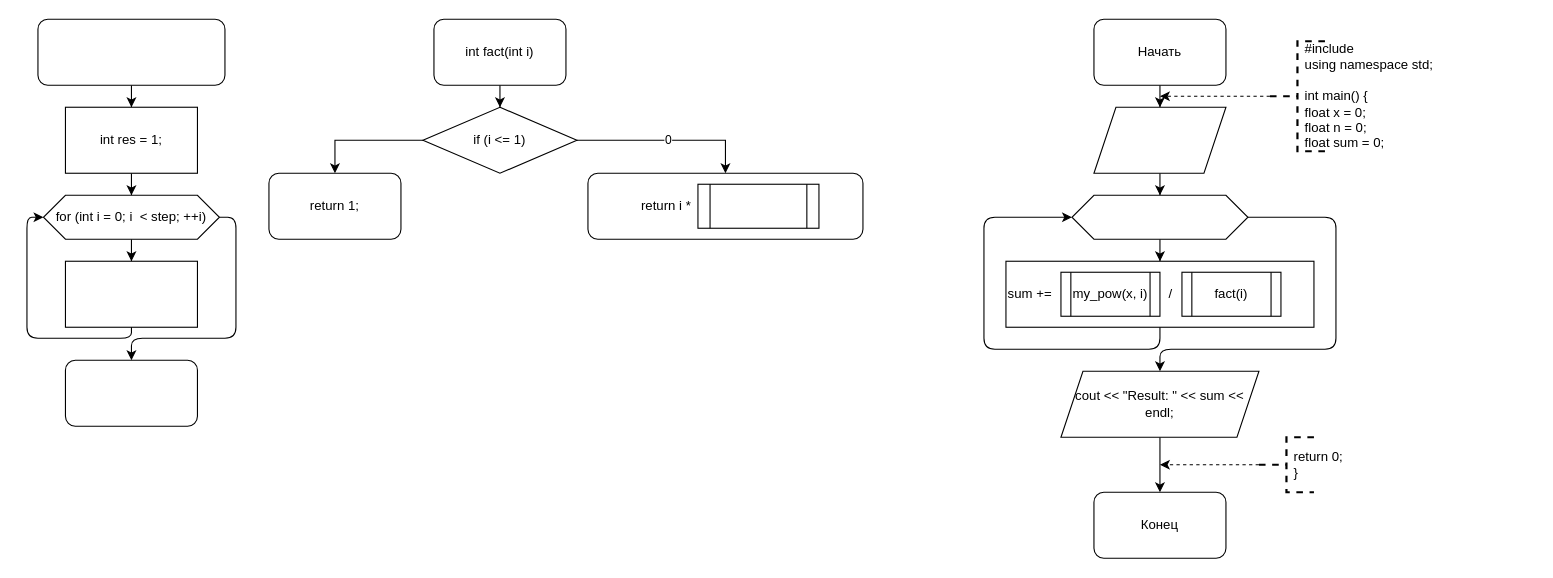
Some shapes in this 1553 by 578 pixel diagram are drawn without their labels. The shapes that lost their labels are listed below. From the top down, each one's centre as x and y in pixels, then its label:
At point (131, 51): "float my_pow(float x, int step)".
At point (1159, 139): "cin >> x >> n;".
At point (758, 205): "fact(i - 1)".
At point (1159, 216): "for (int i = 0; i < n; ++i)".
At point (130, 293): "res *= x".
At point (130, 392): "return res;".
